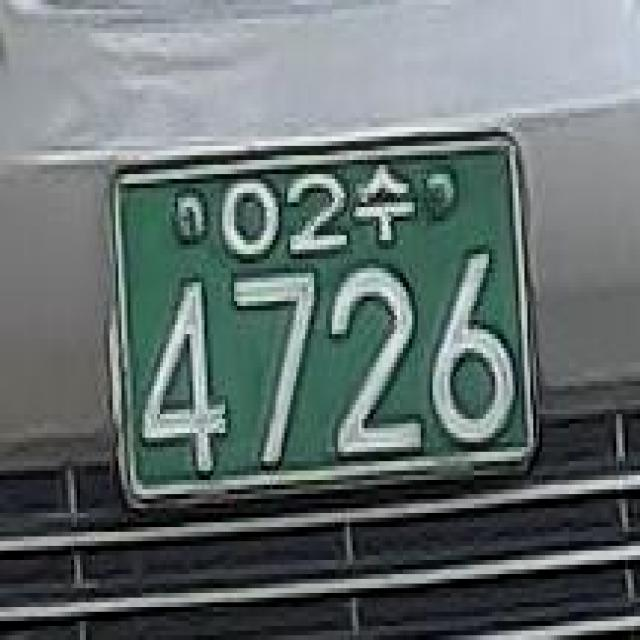illegal_plate: (91, 116, 550, 527)
